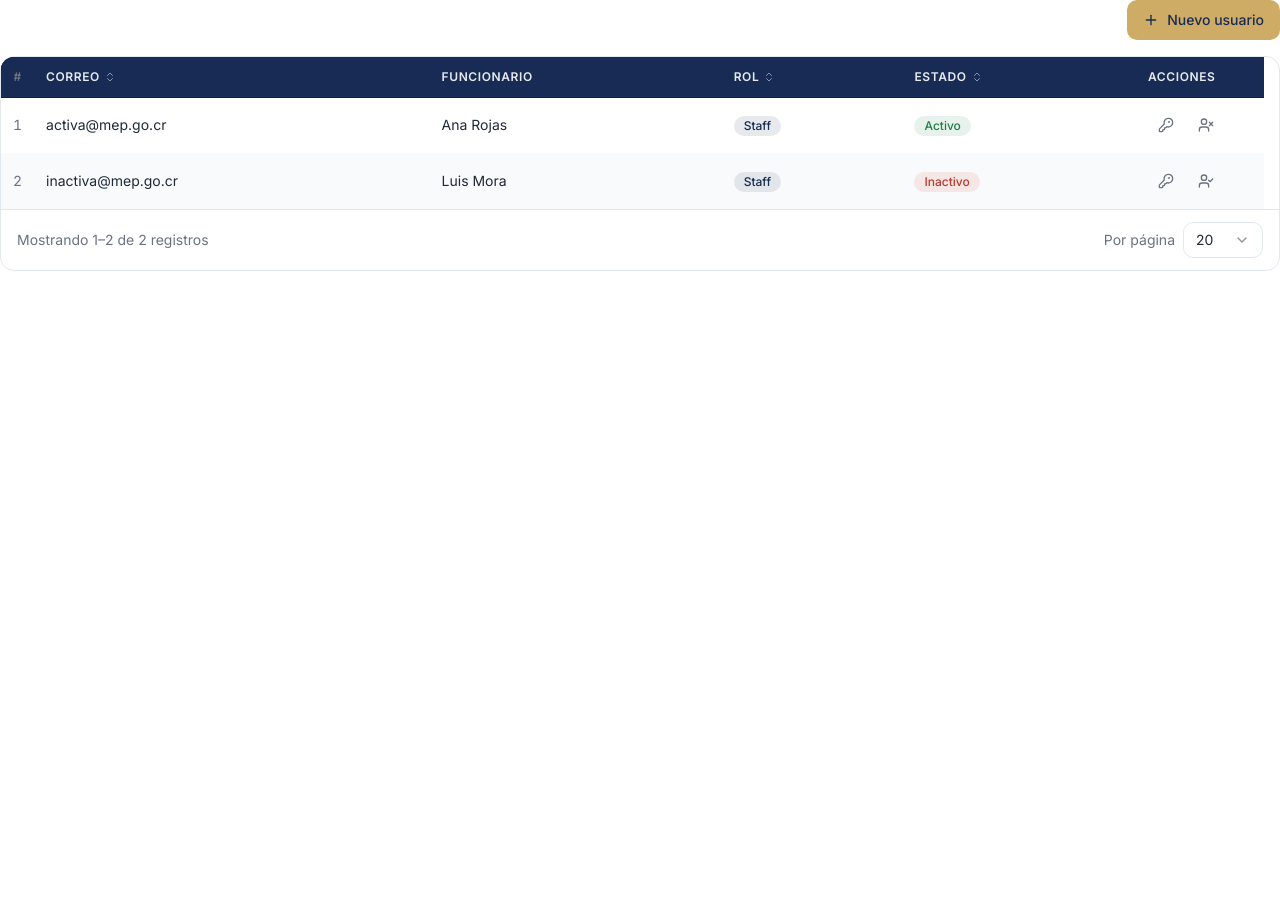
Test case: Pantalla de usuarios — cambio de estado › muestra un mensaje claro cuando cambiar el estado responde 403
The width and height of the screenshot is (1280, 900).
Click the button named "Desactivar": [1206, 125] box top-left (1188, 107), bottom-right (1224, 143)
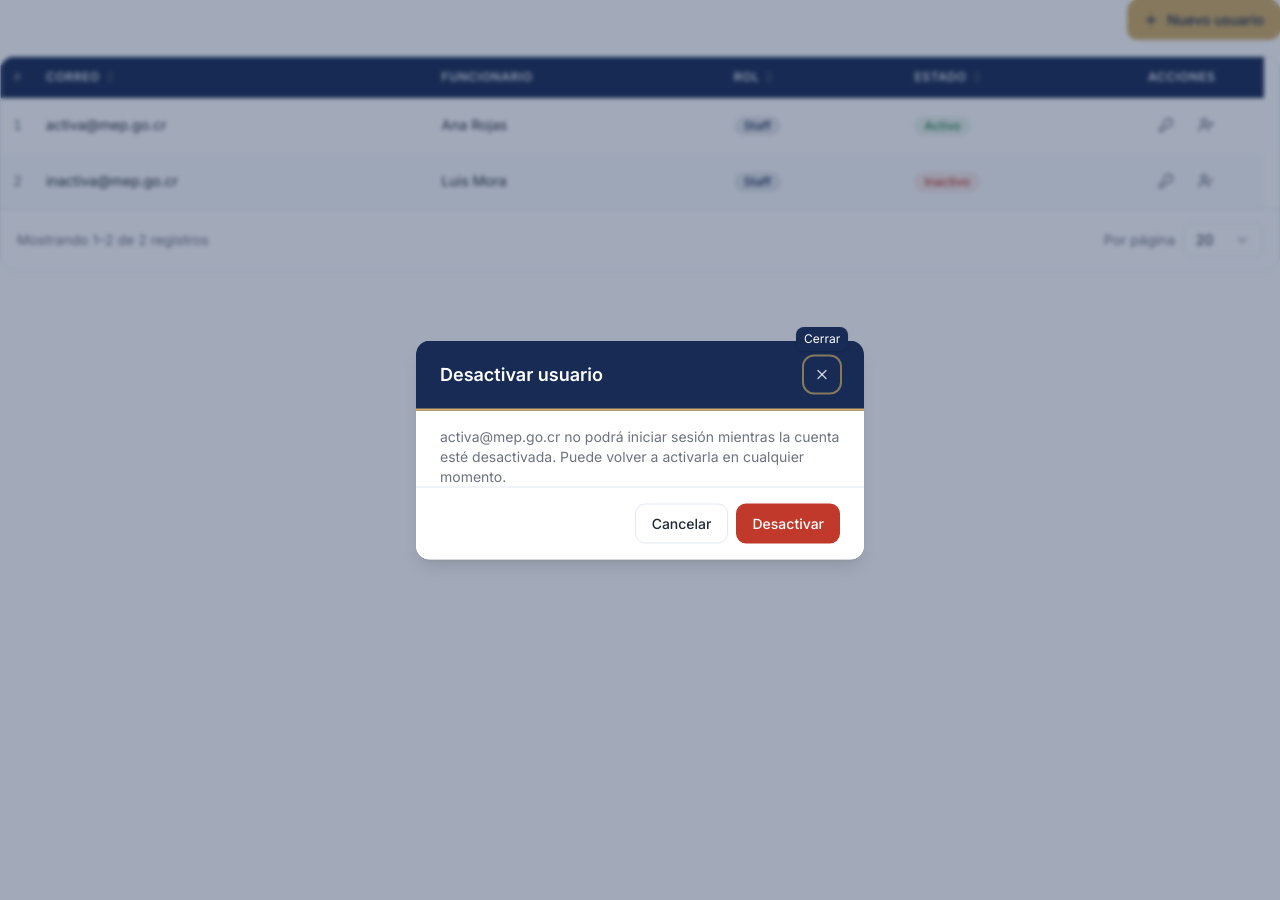
Click the button "Desactivar": [788, 524] box top-left (736, 504), bottom-right (840, 544)
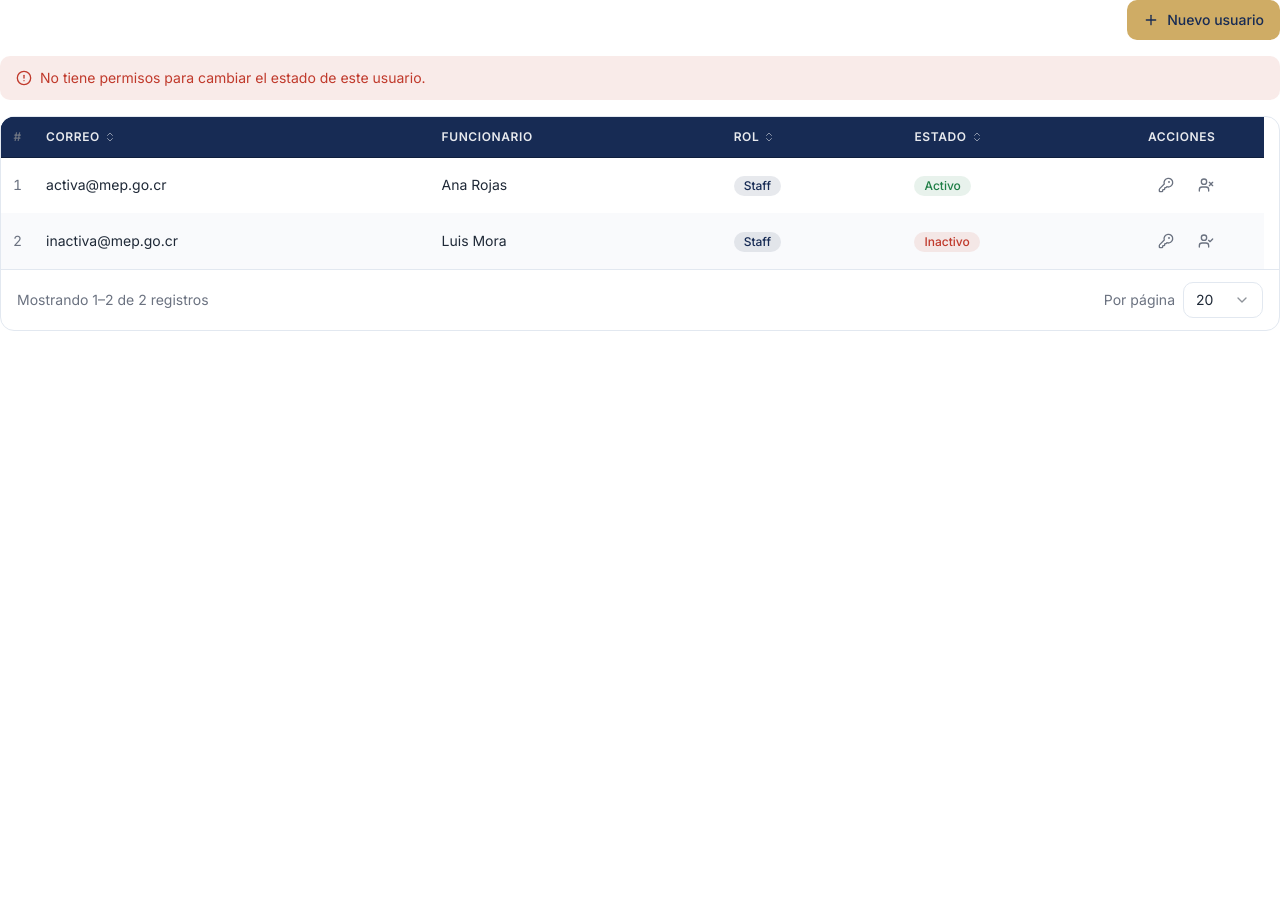
Expected: the text "No tiene permisos para cambiar el estado de este usuario." is shown, top-left (40, 68), bottom-right (426, 88)
